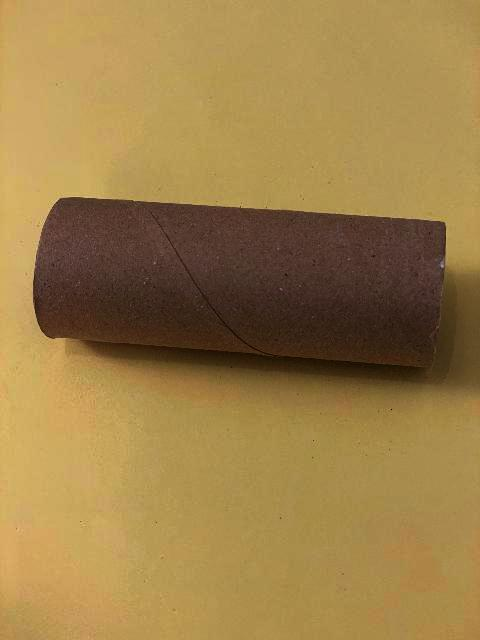tissueroll: (32, 196, 448, 372)
